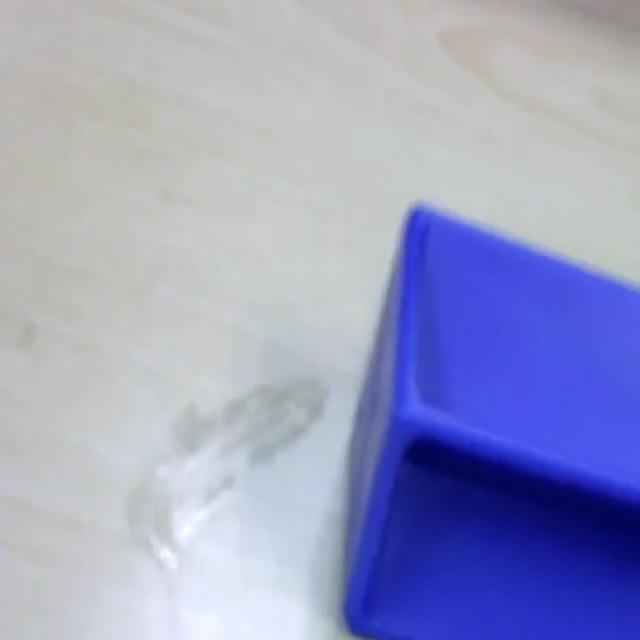blue_block: (341, 198, 638, 638)
